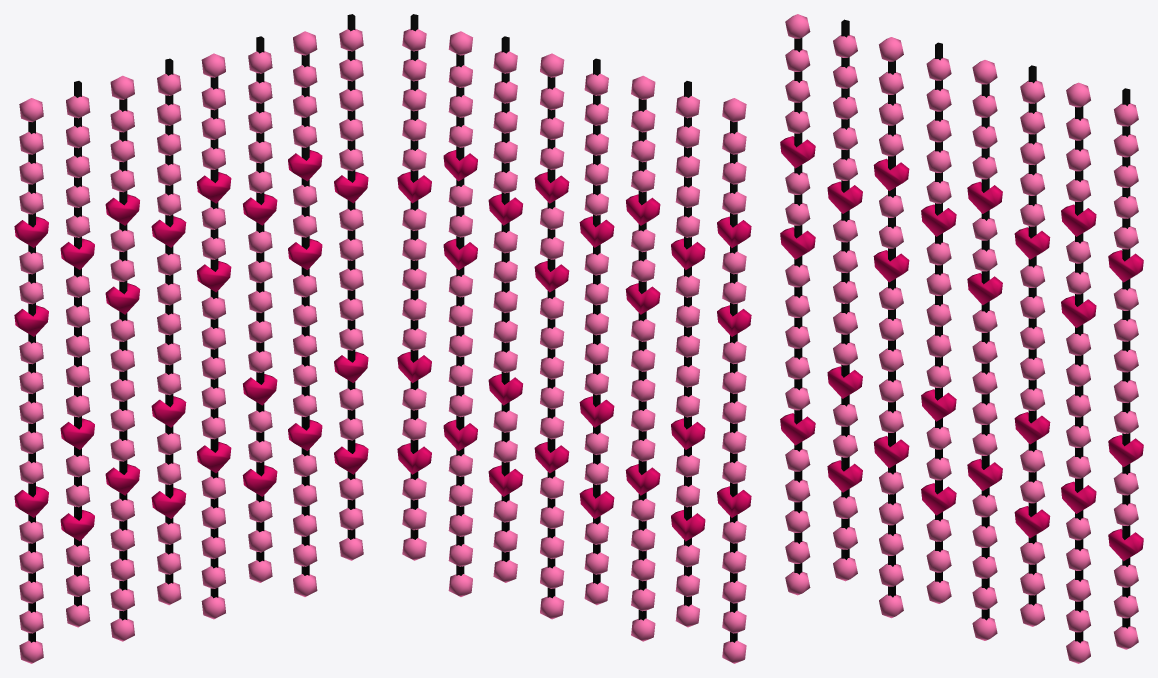
The model's file is SM_HasjTeppeV2.fbx.
3 views of the same model, side by side, from view 1: azimuth 30°, elevation 25°; view 2: azimuth 150°, elevation 25°; view 3: azimuth 330°, elevation 25° (orthographic). The views are drawn at different scales.
Visible parts, largest first — view 1: SM_HasjTeppe; view 2: SM_HasjTeppe; view 3: SM_HasjTeppe.
Boxes of the visible parts, left/top/right/bottom form: SM_HasjTeppe: left=14, top=14, right=368, bottom=663; SM_HasjTeppe: left=397, top=14, right=751, bottom=663; SM_HasjTeppe: left=780, top=14, right=1143, bottom=663.
Bounding box in the file's own units: 235 × 366 × 13.61.
